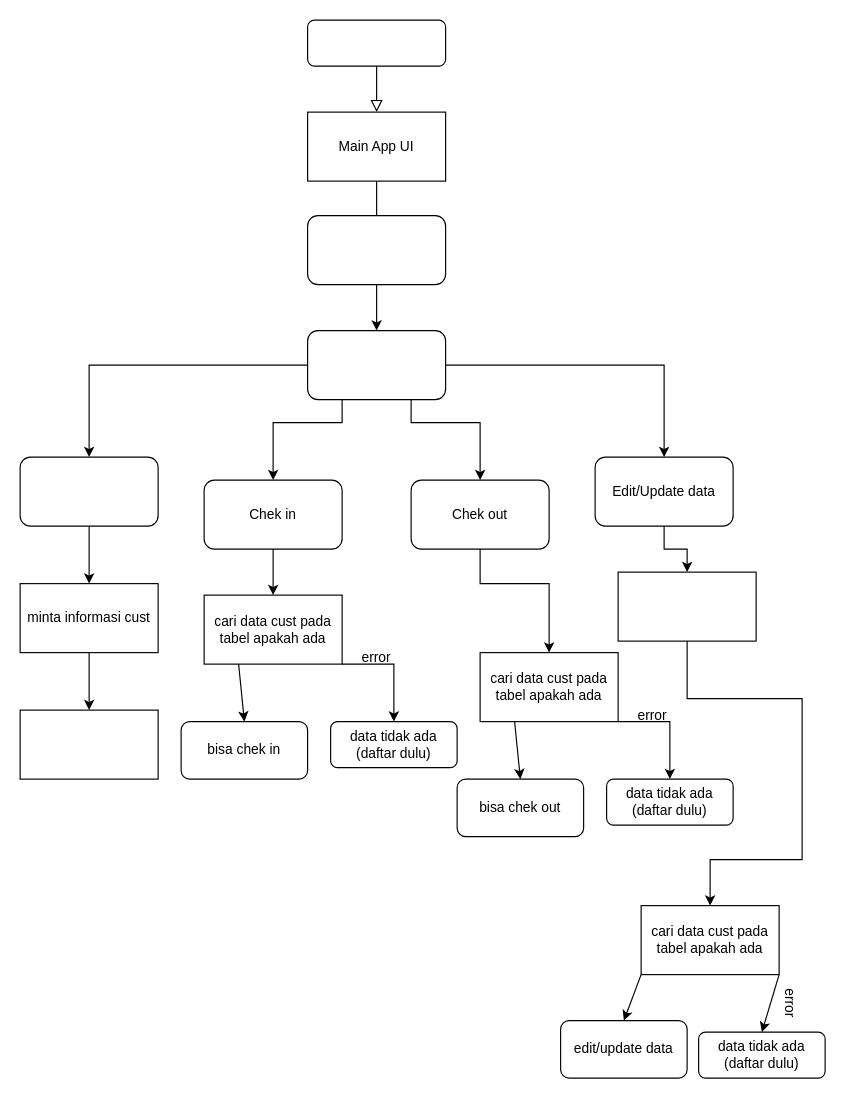
Image size: 845x1098. Some labels were removed from this diagram. Here are the shapes that lost their labels. From the top down, the centre of each, then its label:
At pixel 376 42: "Menejement Hotel ....".
At pixel 376 249: "login admin".
At pixel 376 364: "main menu".
At pixel 88 491: "Booking Kamar".
At pixel 686 606: "tampilkan data cust hotel".
At pixel 88 744: "masukkan data cust k tabel".
